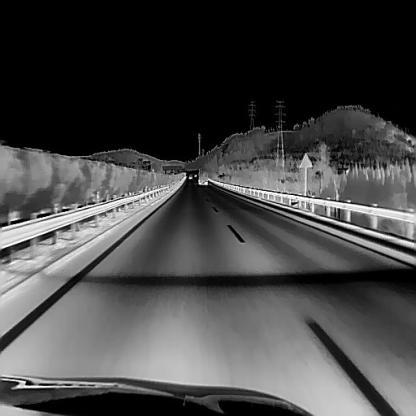car: (197, 168, 207, 184)
